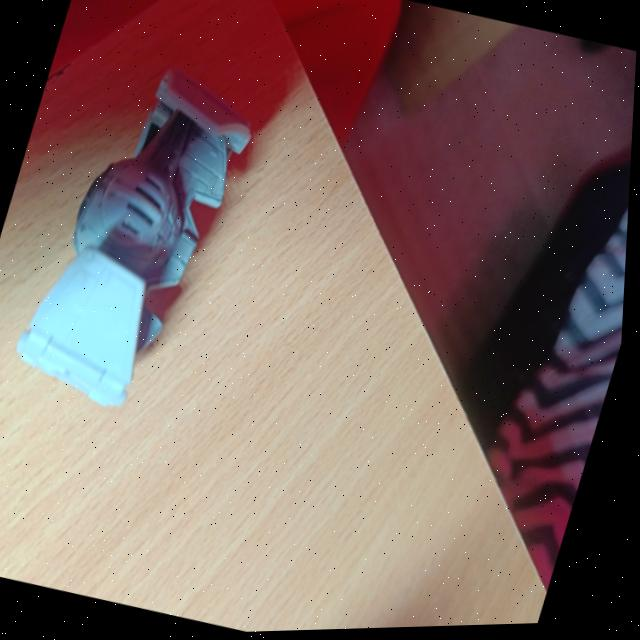tie fighter: (19, 74, 250, 406)
